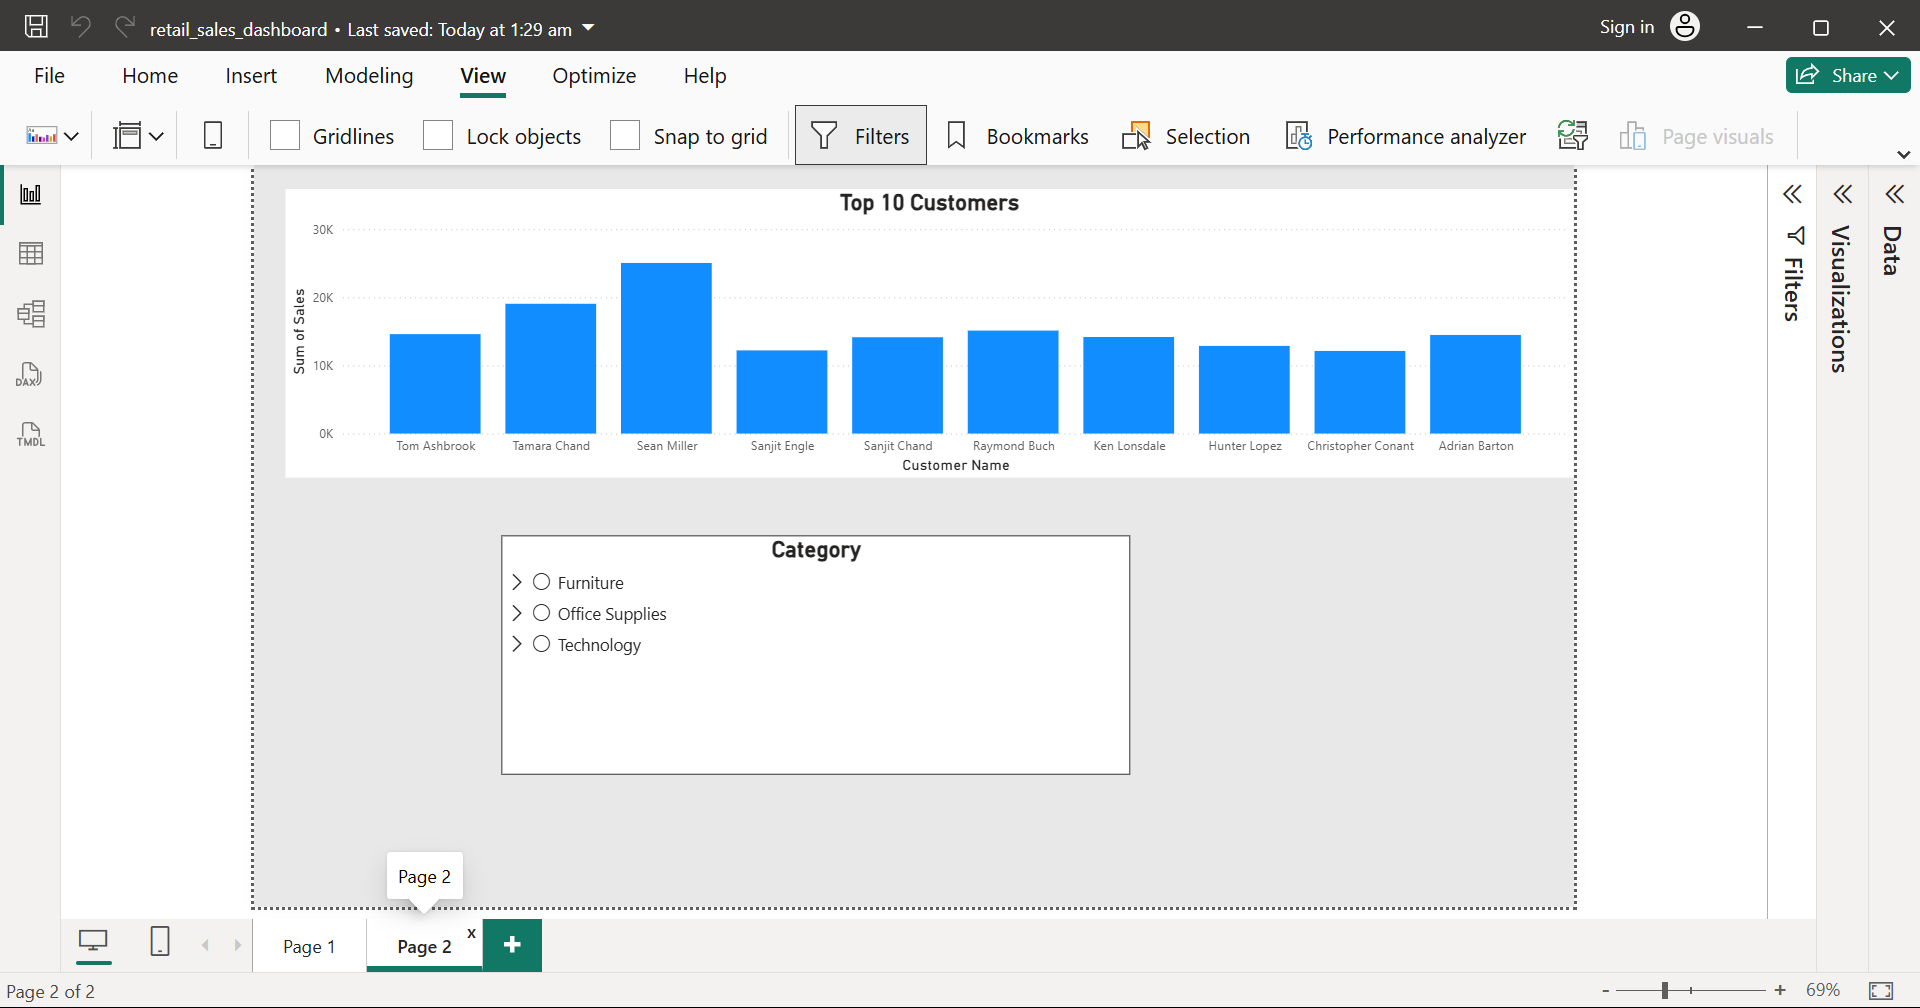

What the dashboard file says about the page in this screenshot:
{"tool":"powerbi","page":{"name":"Page 2","canvas":[1280,720],"ordinal":1},"visuals":[{"type":"clusteredColumnChart","title":"Top 10 Customers","fields":{"Category":["clean_superstore.Customer Name"],"Y":["Sum(clean_superstore.Sales)"]},"box":[30,23.3,1250,280],"z":1},{"type":"listSlicer","fields":{"Values":["clean_superstore.Category","clean_superstore.Region"]},"box":[240,360,610,231.7],"z":2}]}

Visuals, with their boxes on the page's 1280x720 design canvas (x1, y1, x2, y2). These are canvas units, not pixel positions in the 1920x1008 screenshot, which may show the page scaled, cropped or inside an application window:
"Top 10 Customers" clusteredColumnChart: 30, 23, 1280, 303
listSlicer - clean_superstore.Category x clean_superstore.Region: 240, 360, 850, 592
